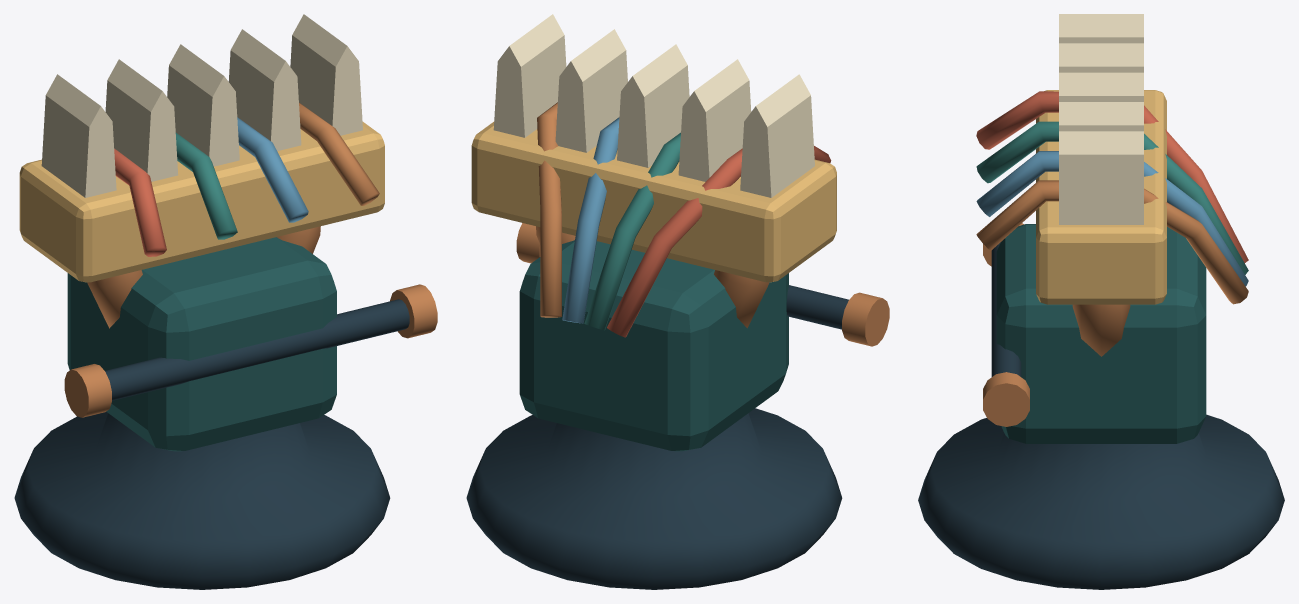
3 renders of one model, left to right at view 1: azimuth 30°, elevation 25°; view 2: azimuth 150°, elevation 25°; view 3: azimuth 270°, elevation 25°, orthographic. The views are drawn at different scales.
Parts seen in each view (by area): view 1: PR025 workshop surfaces; view 2: PR025 workshop surfaces; view 3: PR025 workshop surfaces.
Part boxes in pixels (x1=…): PR025 workshop surfaces: x1=14, y1=14, x2=437, y2=589; PR025 workshop surfaces: x1=466, y1=14, x2=889, y2=589; PR025 workshop surfaces: x1=918, y1=14, x2=1284, y2=589.
Size of the model in its own units: 0.6964 by 0.8705 by 0.65.
